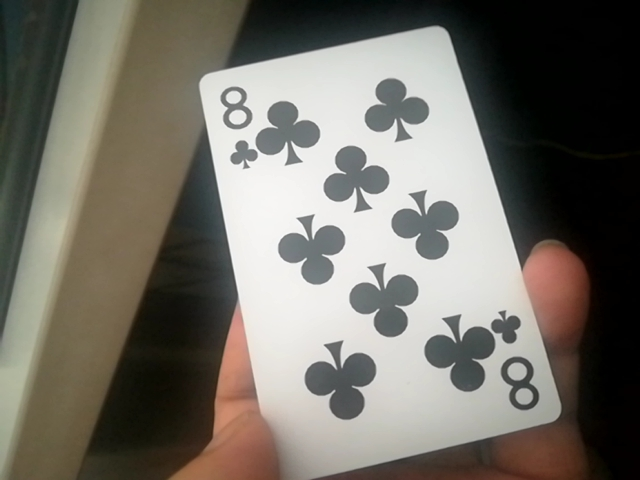mh 8: (200, 34, 570, 480)
